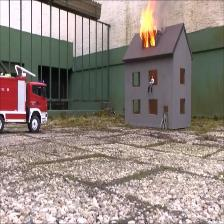fire: (139, 9, 157, 48)
